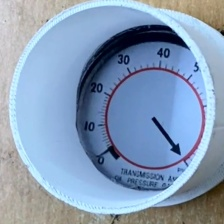gauge: (79, 38, 206, 191)
